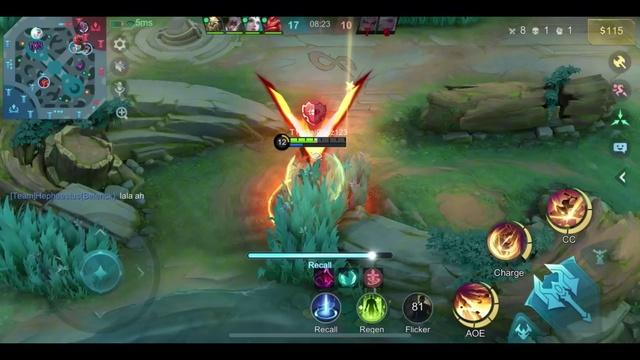Adc_Aliado: (37, 76, 51, 88)
Adc_Enemigo: (77, 21, 90, 35)
Arbusto: (0, 200, 112, 301), (264, 150, 367, 252), (258, 260, 311, 285)
Exp_Aliado: (30, 28, 42, 39)
HP_Heroe_Principal: (288, 137, 345, 143)
Jungla_Aliado: (82, 41, 93, 55)
Jungla_Enemigo: (74, 33, 86, 47)
Mana: (288, 142, 347, 148)
Mid_Aliado: (69, 42, 79, 52)
Minimapa: (0, 18, 103, 120)
Roamer_Aliado: (76, 41, 84, 55)
Skill1: (454, 285, 498, 329)
Tigreal: (287, 152, 345, 207)
skill3: (547, 188, 591, 230)
